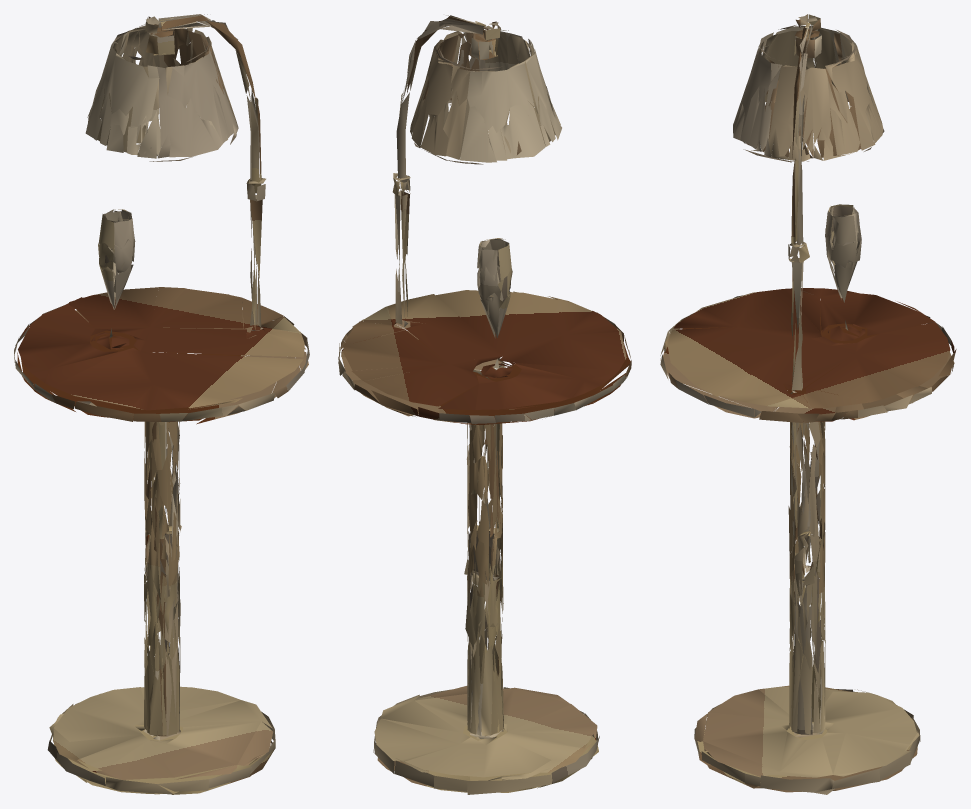
File: jetlamp.glb
The picture shows the model from 3 angles, left to right: view 1: azimuth 30°, elevation 25°; view 2: azimuth 150°, elevation 25°; view 3: azimuth 270°, elevation 25°; orthographic projection.
Visible parts, largest first — view 1: LO.001; view 2: LO.001; view 3: LO.001.
Part boxes in pixels (x1,y1,x2,y2): LO.001: (14,14,309,794); LO.001: (338,15,631,794); LO.001: (660,14,956,794).
Size of the model in its own units: 0.704 by 1.91 by 0.7044.
1 material, 1 textured.
